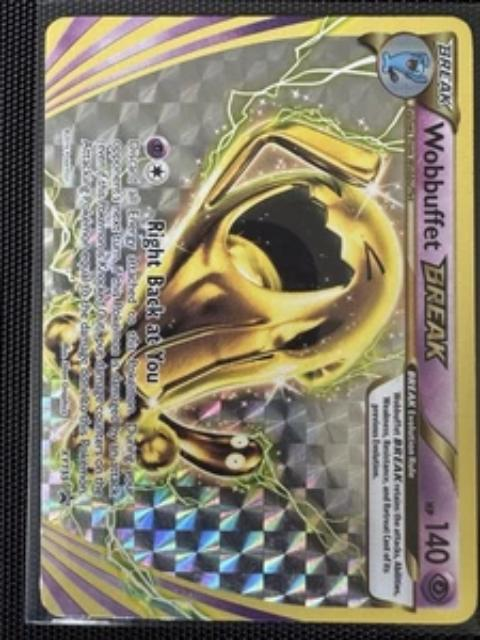Card: (35, 12, 478, 629)
Name: (416, 103, 454, 382)
